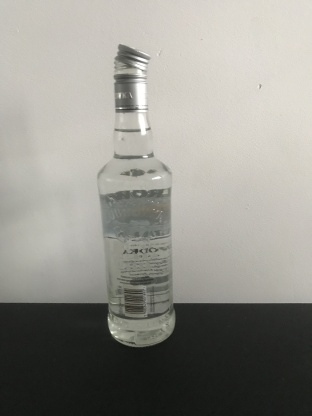nakretka: (112, 41, 151, 113)
